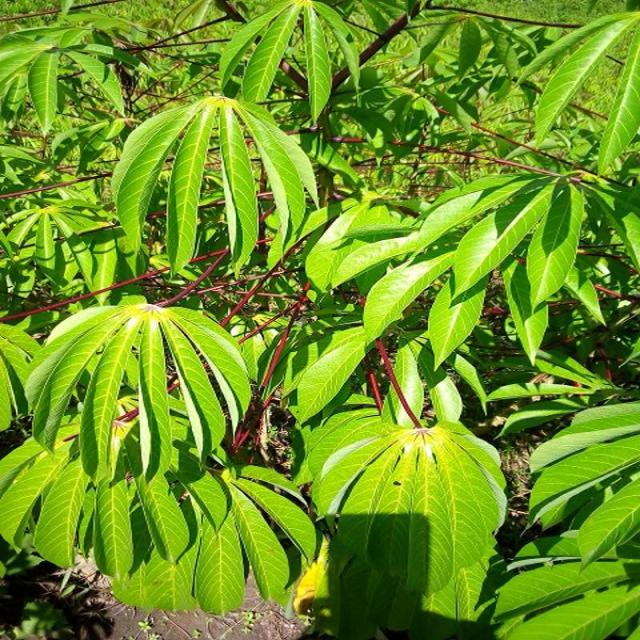cassava leaf: (2, 1, 638, 636), (306, 405, 509, 634), (25, 294, 253, 488), (111, 91, 319, 278)
